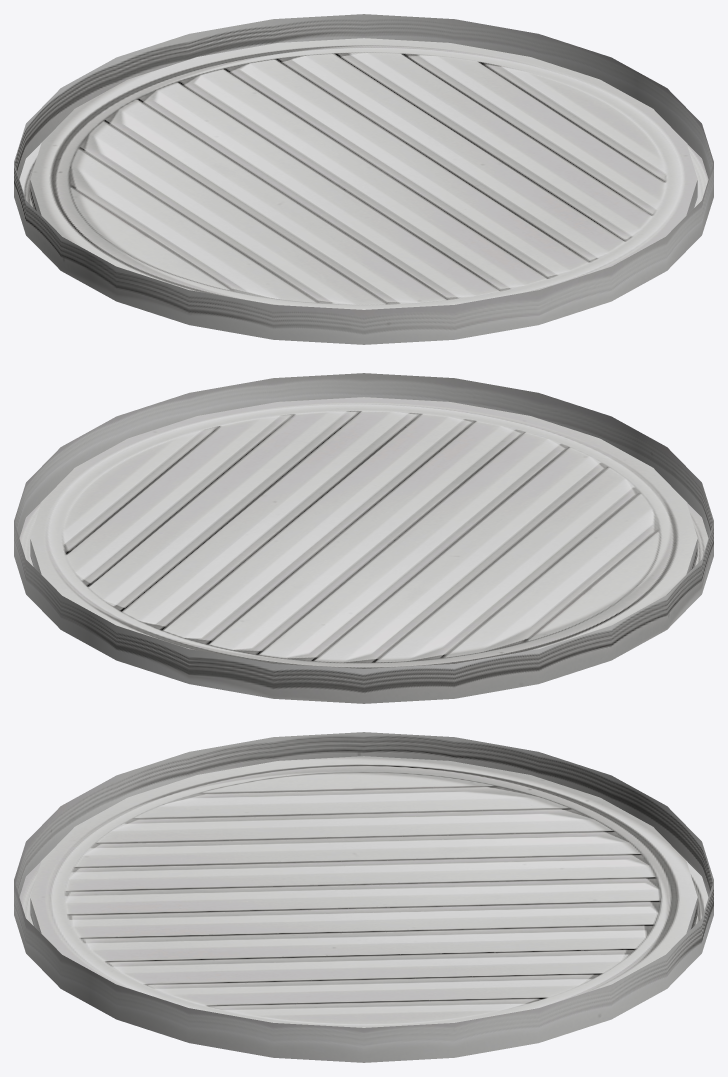
The model's file is VentCover01_4.FBX.
3 views of the same model, one above another, from view 1: azimuth 30°, elevation 25°; view 2: azimuth 150°, elevation 25°; view 3: azimuth 270°, elevation 25° (orthographic).
Parts seen in each view (by area): view 1: VentCover01_4; view 2: VentCover01_4; view 3: VentCover01_4.
Part boxes in pixels (box(x1,y1,x2,y2)): VentCover01_4: box(14, 14, 713, 344); VentCover01_4: box(14, 373, 713, 703); VentCover01_4: box(14, 732, 713, 1062).
Bounding box in the file's own units: 30 × 1.65 × 30.
